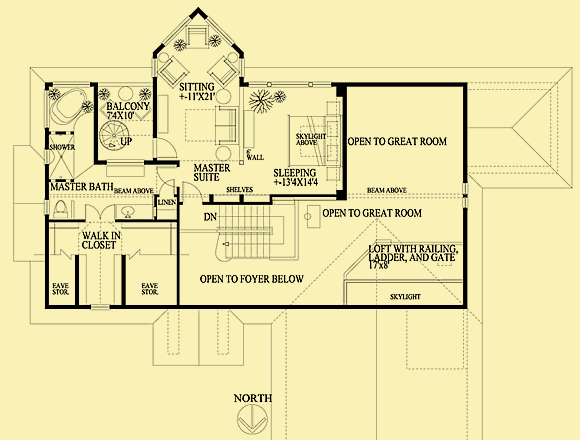bed: (287, 115, 341, 169)
door: (82, 204, 121, 223), (151, 135, 179, 160), (181, 179, 203, 205), (155, 177, 177, 198)
large_sink: (52, 199, 71, 220)
large_sofa: (213, 104, 239, 148)
small_sink: (120, 201, 155, 220)
small_sofa: (154, 56, 193, 89), (206, 56, 239, 90), (184, 24, 211, 50)
stairs: (214, 205, 300, 262)
tub: (48, 87, 88, 124)
window: (246, 81, 333, 90), (461, 183, 470, 210), (89, 303, 111, 312)
